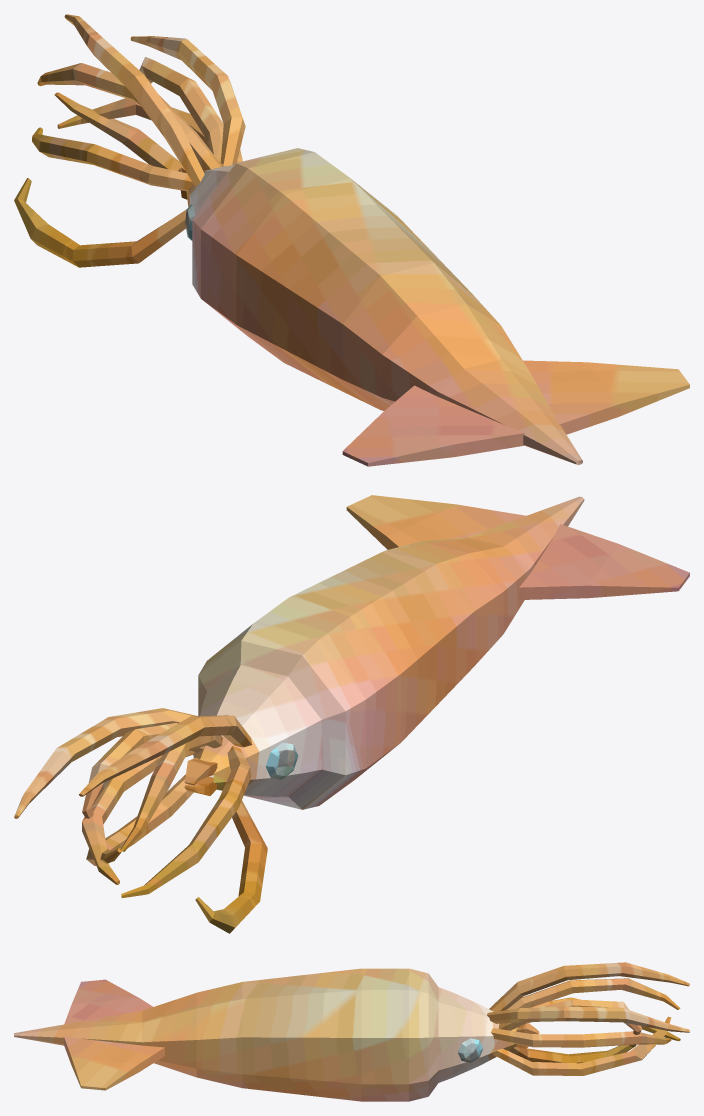
Rendered from Squid.glb.
3 renders of one model, top to bottom at view 1: azimuth 30°, elevation 25°; view 2: azimuth 150°, elevation 25°; view 3: azimuth 270°, elevation 25°, orthographic. The views are drawn at different scales.
Parts seen in each view (by area): view 1: Squid; view 2: Squid; view 3: Squid.
Part boxes in pixels (bbox=[...]): Squid: bbox=[14, 14, 689, 466]; Squid: bbox=[14, 495, 689, 933]; Squid: bbox=[14, 962, 689, 1101].
Size of the model in its own units: 2.9 by 1.52 by 7.63.
1 material, 1 textured.
